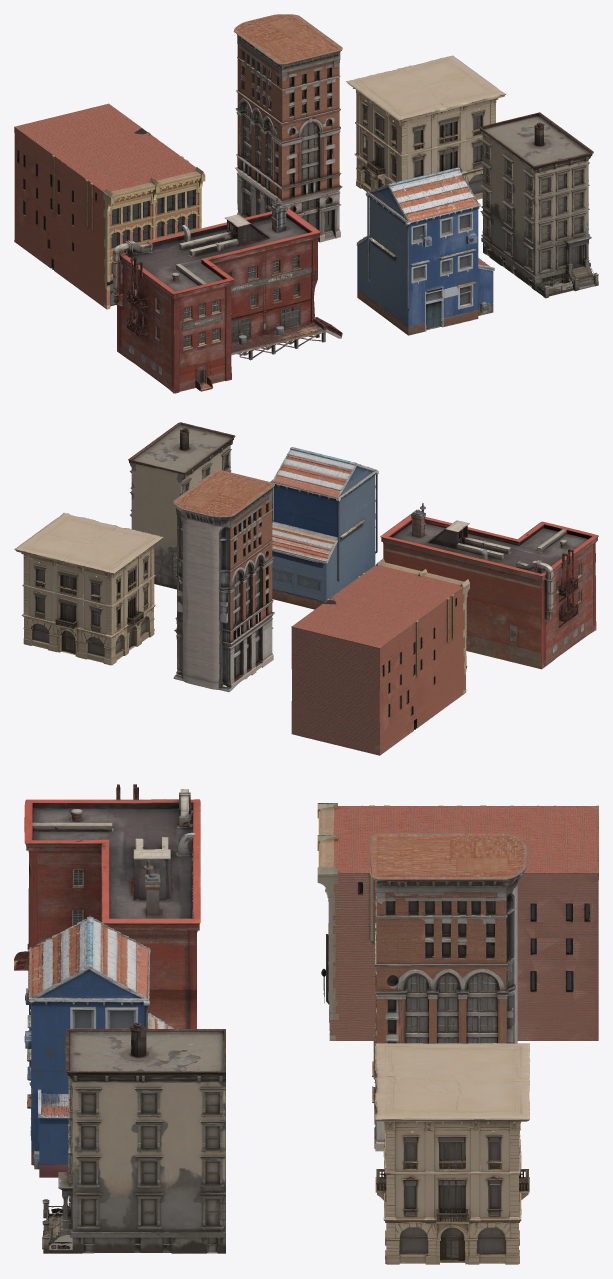
Rendered from city2.glb.
The picture shows the model from 3 angles, top to bottom: view 1: azimuth 30°, elevation 25°; view 2: azimuth 150°, elevation 25°; view 3: azimuth 270°, elevation 25°; orthographic projection. The views are drawn at different scales.
Visible parts, largest first — view 1: b1, b3, b5, b2, b4, b6; view 2: b3, b1, b5, b6, b2, b4; view 3: b4, b3, b6, b5, b1, b2.
Boxes of the visible parts, box(x1,y1,x2,y2) form: b1: box(110, 197, 342, 393); b3: box(14, 103, 205, 309); b5: box(233, 14, 342, 242); b2: box(356, 167, 494, 335); b4: box(479, 112, 598, 298); b6: box(346, 55, 505, 199); b3: box(291, 558, 469, 755); b1: box(380, 503, 598, 669); b5: box(173, 470, 274, 692); b6: box(14, 512, 163, 665); b2: box(270, 447, 378, 609); b4: box(128, 422, 235, 589); b4: box(42, 1022, 225, 1253); b3: box(317, 803, 598, 1040); b6: box(375, 1043, 530, 1264); b5: box(370, 833, 526, 1151); b1: box(14, 784, 200, 1028); b2: box(24, 916, 173, 1177).
Size of the model in its own units: 4.48 by 1.75 by 3.39.
Materials: 6 (6 with a texture image).
